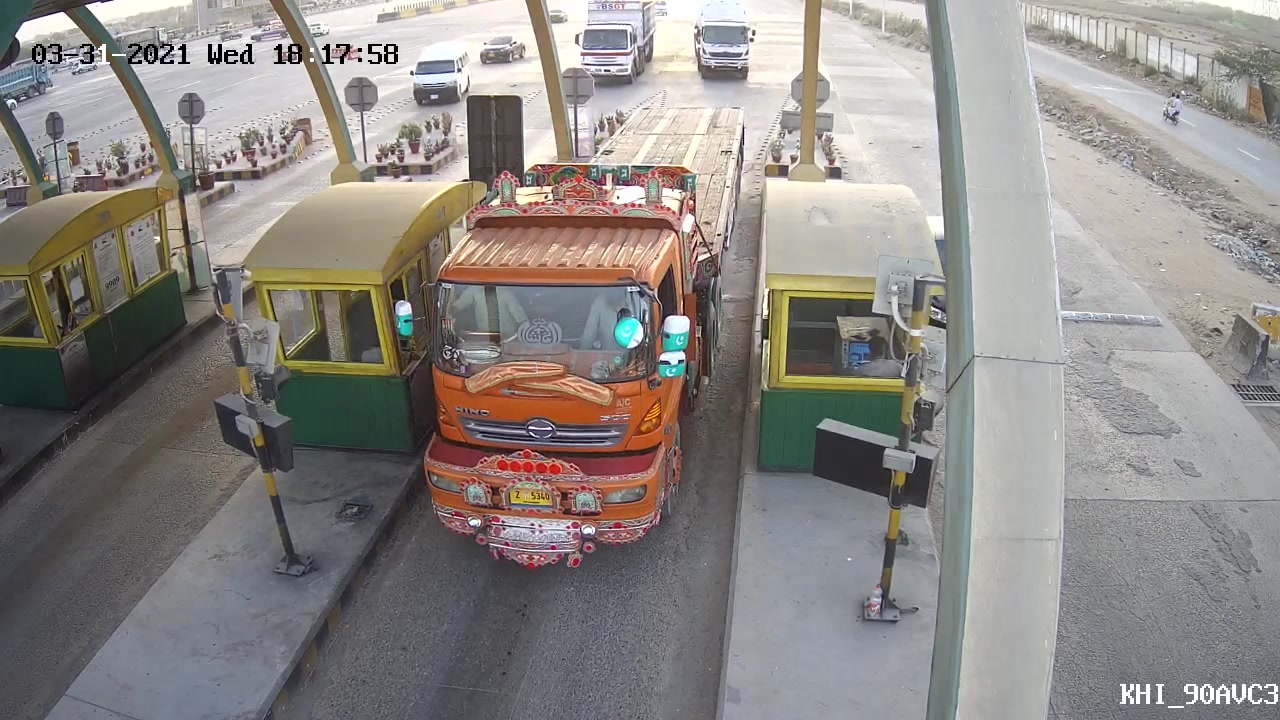F6: (410, 94, 757, 567)
